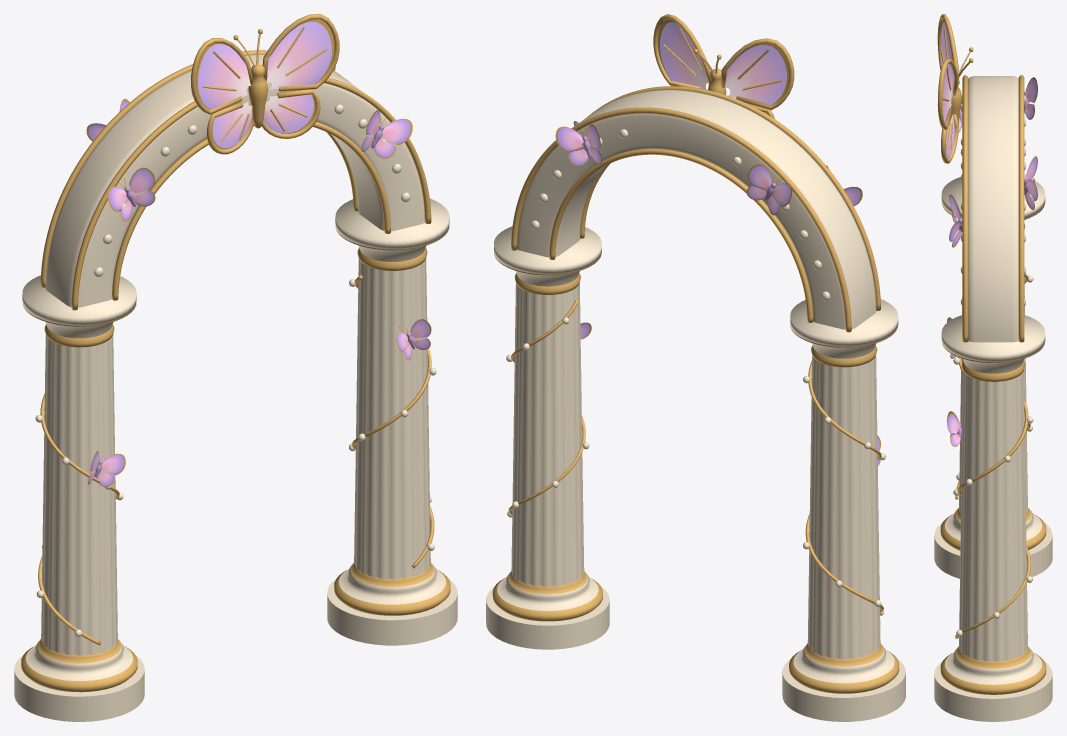
Rendered from butterfly-gate.glb.
3 views of the same model, side by side, from view 1: azimuth 30°, elevation 25°; view 2: azimuth 150°, elevation 25°; view 3: azimuth 270°, elevation 25° (orthographic). The views are drawn at different scales.
Parts seen in each view (by area): view 1: butterfly-gate; view 2: butterfly-gate; view 3: butterfly-gate.
Part boxes in pixels (box(x1,y1,x2,y2)): butterfly-gate: box(14, 14, 457, 721); butterfly-gate: box(486, 14, 905, 721); butterfly-gate: box(934, 14, 1052, 721).
Size of the model in its own units: 4.22 by 6.14 by 1.12.
